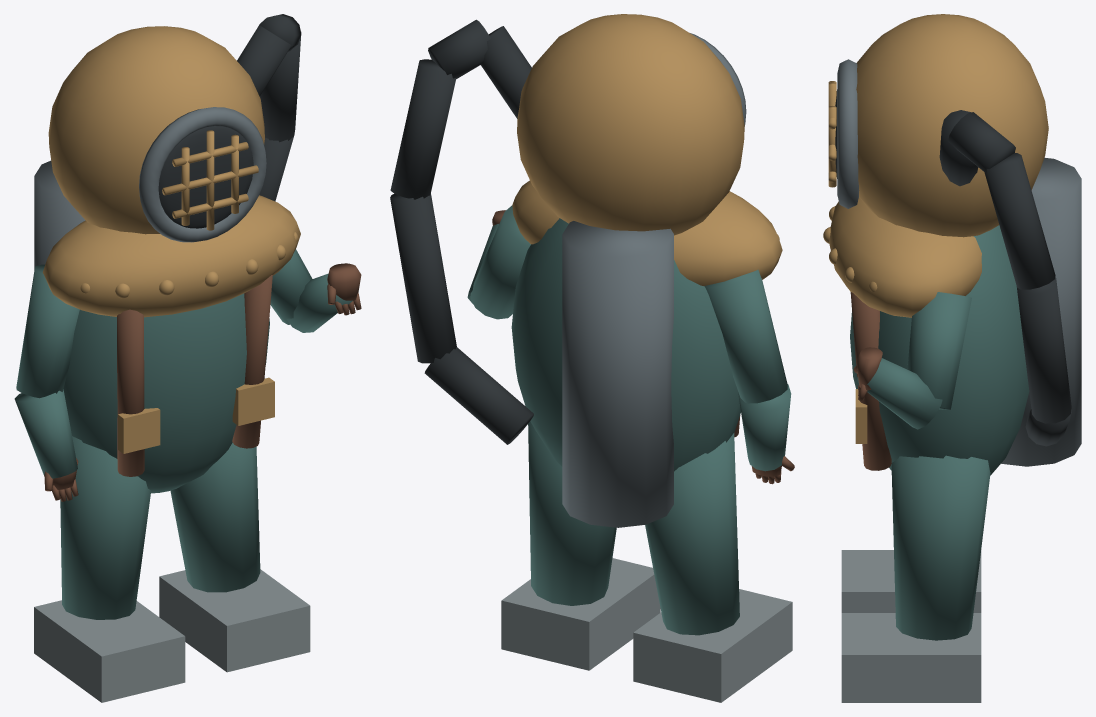
Rendered from diver.glb.
3 views of the same model, side by side, from view 1: azimuth 30°, elevation 25°; view 2: azimuth 150°, elevation 25°; view 3: azimuth 270°, elevation 25° (orthographic). The views are drawn at different scales.
Visible parts, largest first — view 1: body, leg_l, leg_r, equipment; view 2: body, leg_l, equipment, leg_r; view 3: body, leg_r, equipment, leg_l.
Part boxes in pixels (box(x1,y1,x2,y2)): body: box(14, 26, 361, 501); leg_l: box(34, 436, 185, 702); leg_r: box(159, 442, 310, 672); equipment: box(237, 14, 301, 201); body: box(467, 14, 794, 527); leg_l: box(633, 433, 792, 702); equipment: box(390, 19, 533, 444); leg_r: box(501, 421, 660, 670); body: box(823, 14, 1081, 475); leg_r: box(841, 455, 990, 702); equipment: box(939, 110, 1071, 446); leg_l: box(841, 550, 981, 612).
Size of the model in its own units: 1.25 by 2.22 by 0.832.
